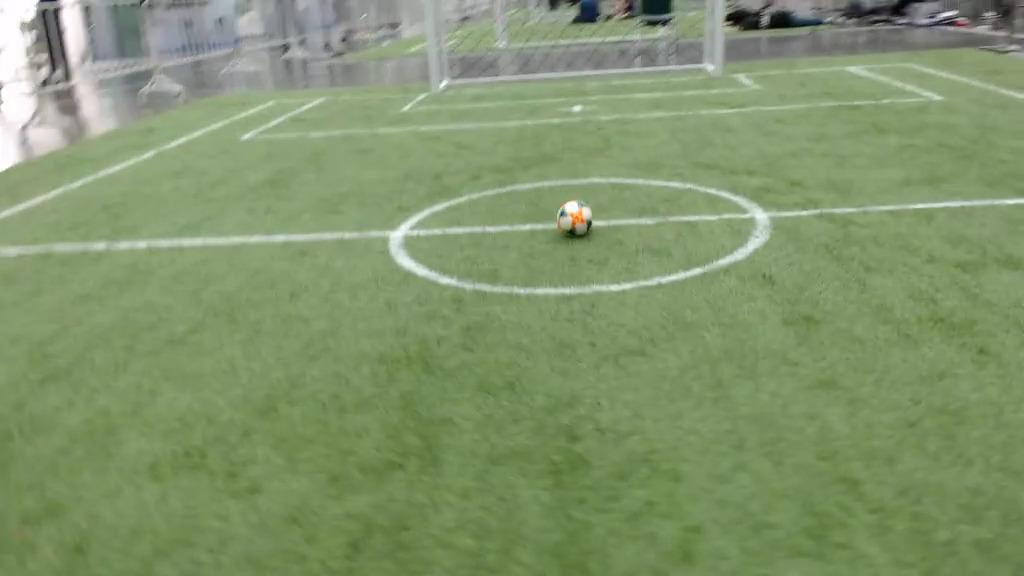ball: (556, 200, 594, 241)
